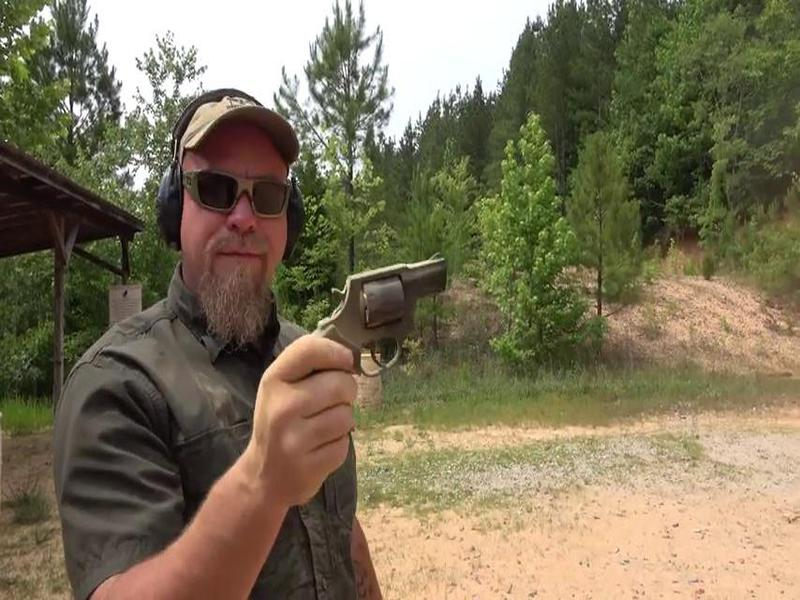Revolver: (308, 248, 456, 383)
